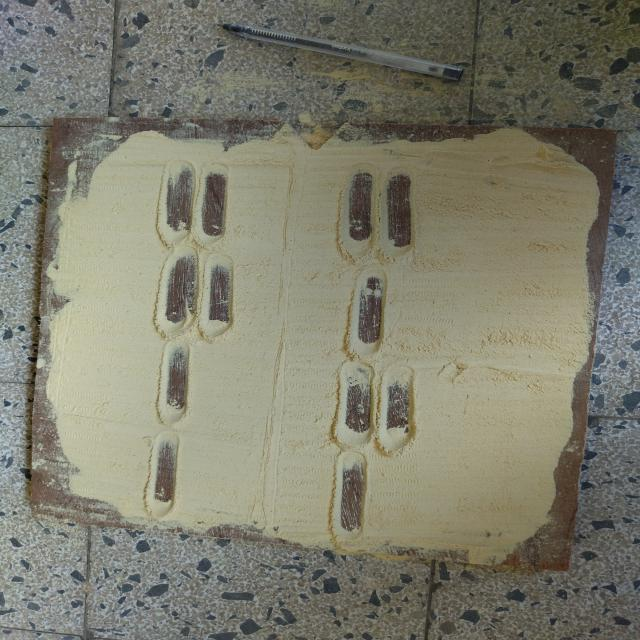double: (329, 164, 424, 263), (330, 360, 424, 453), (154, 246, 236, 341), (156, 155, 237, 249)
single: (321, 446, 376, 554), (341, 262, 394, 364), (142, 429, 184, 527), (152, 342, 196, 429)
